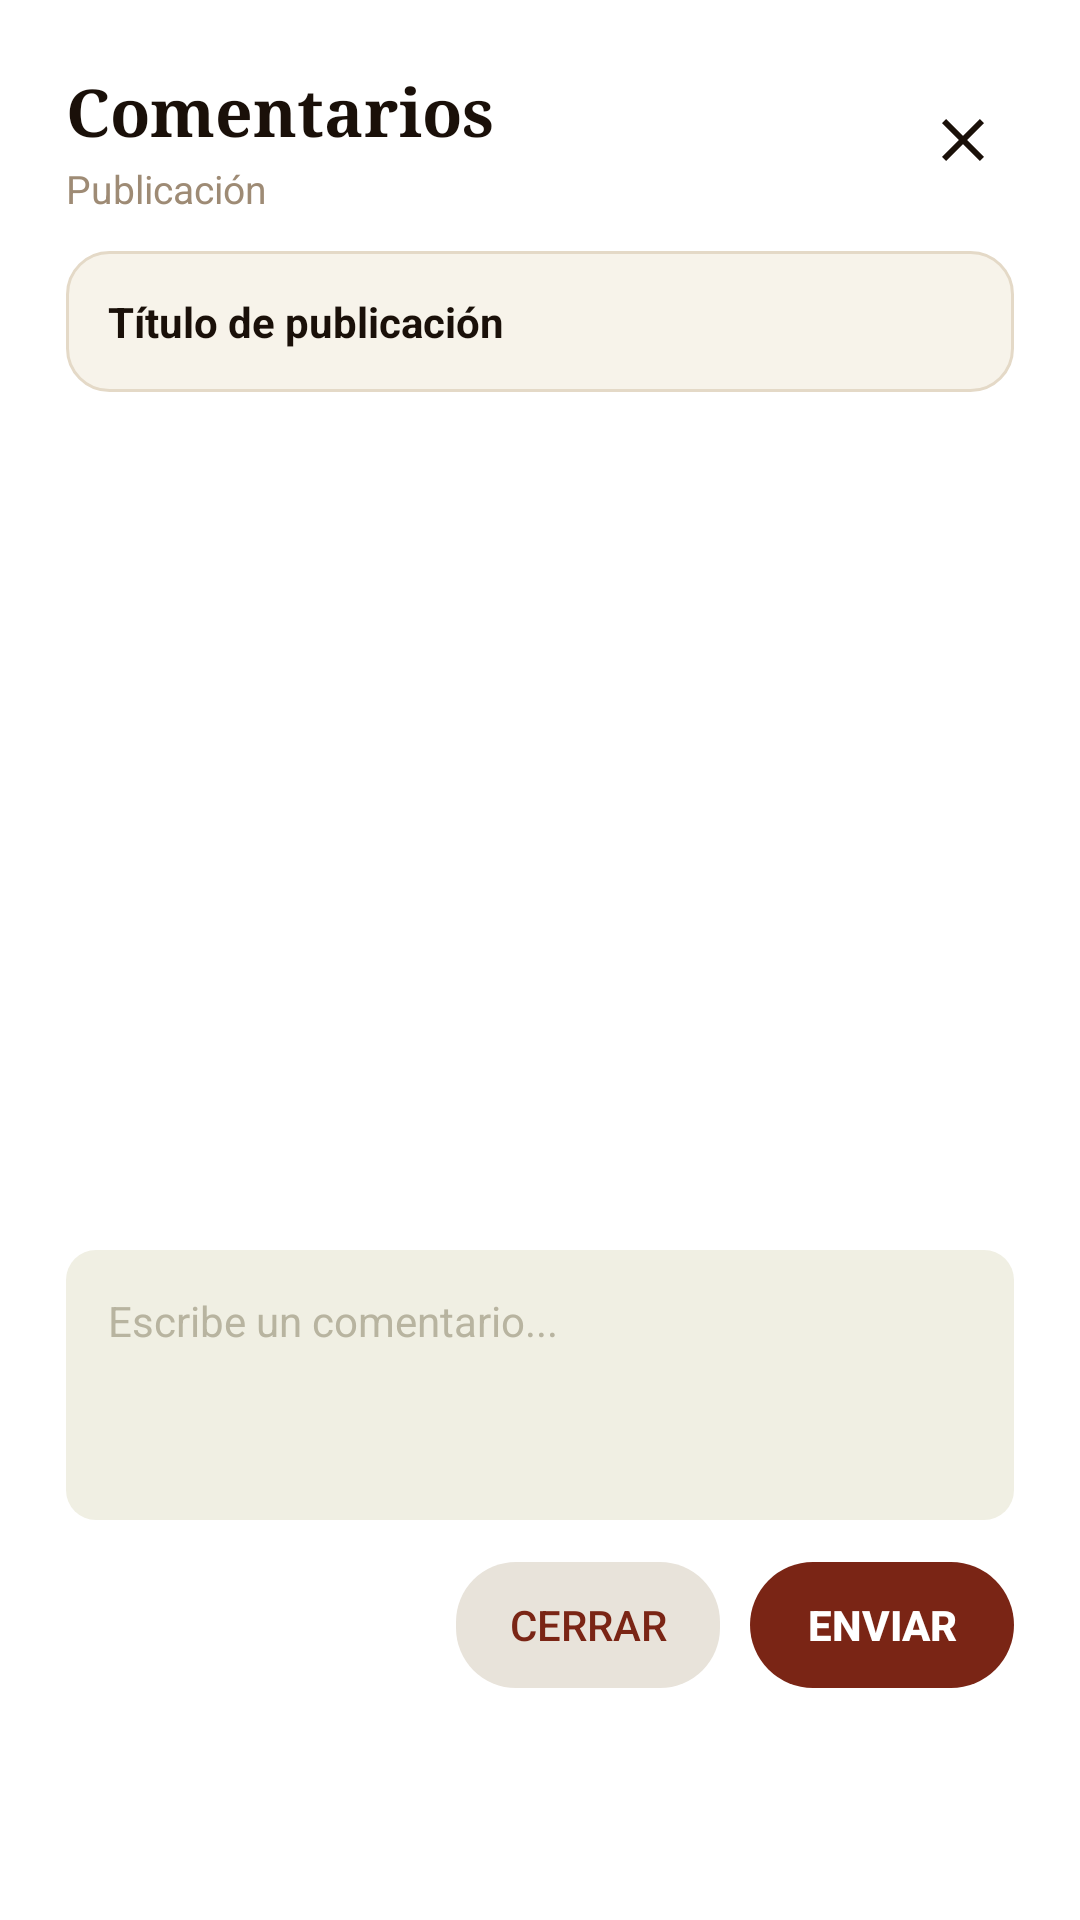

Named icons in this screenshot (1080×1920) and their bounding boxes, (x1, y1, x2, y2):
Cerrar: (942, 119, 984, 161)
